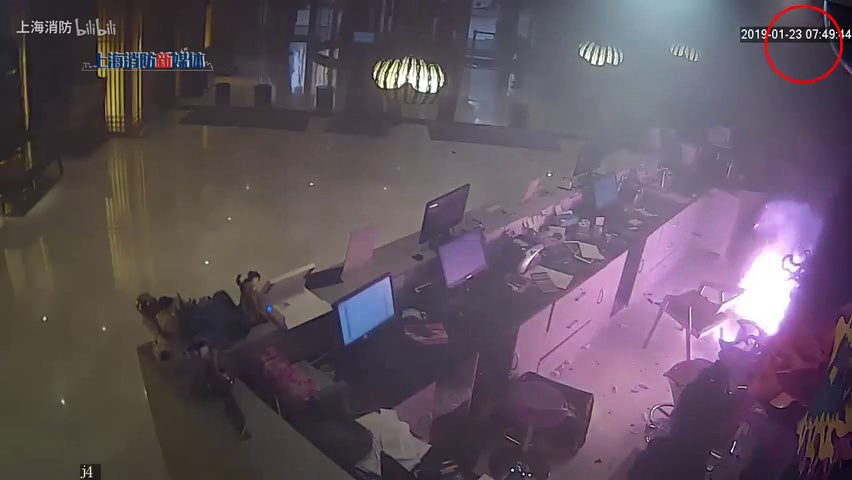fire: (725, 224, 809, 345)
